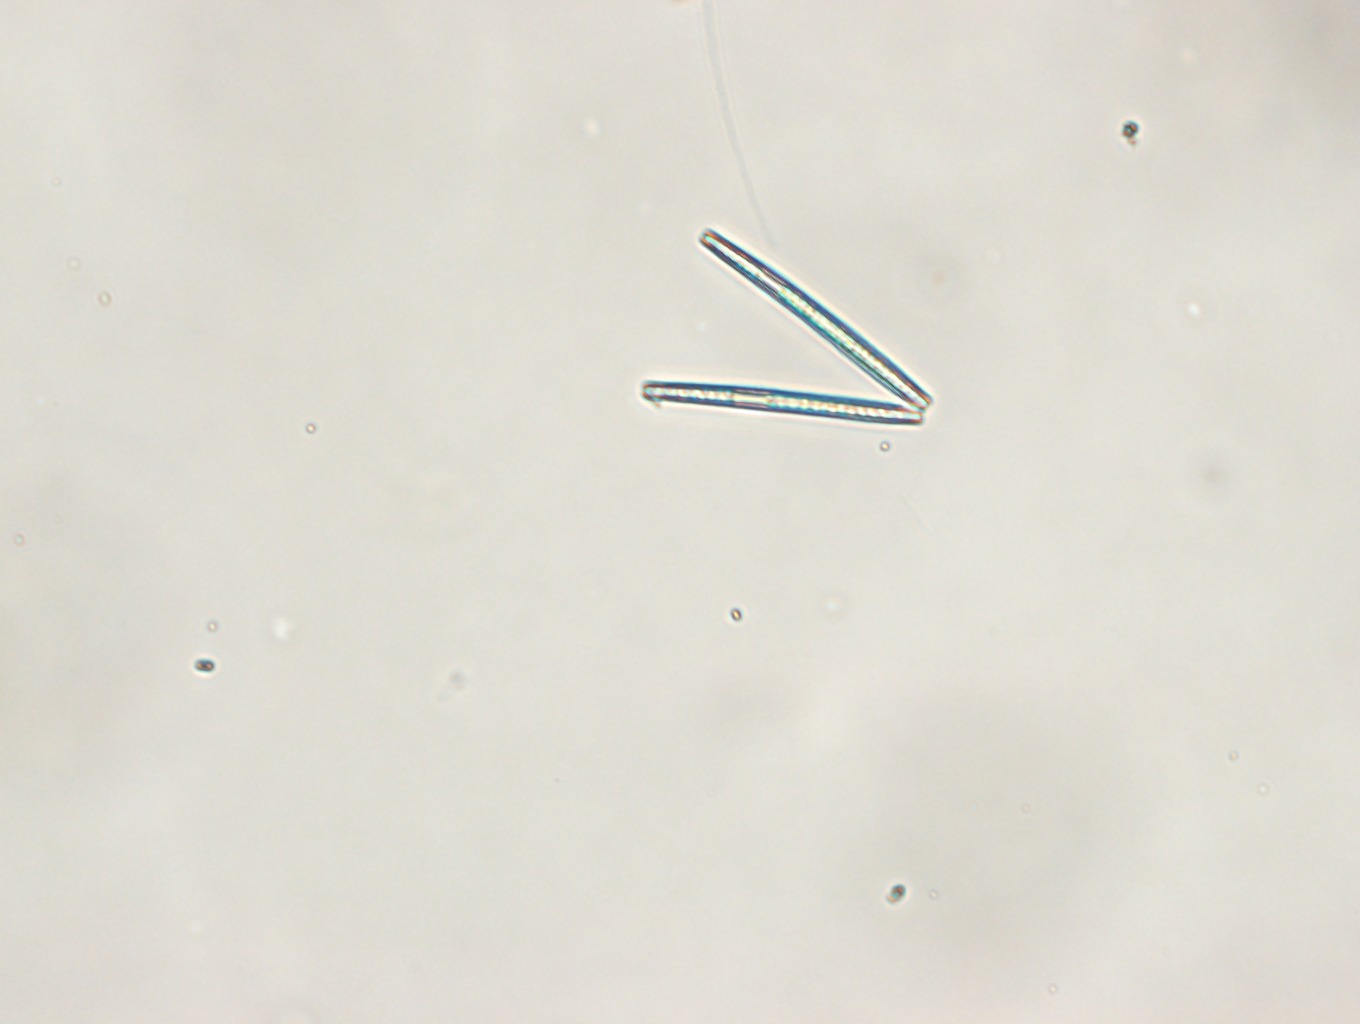thalassionema nitzschioides: (640, 227, 933, 426)
